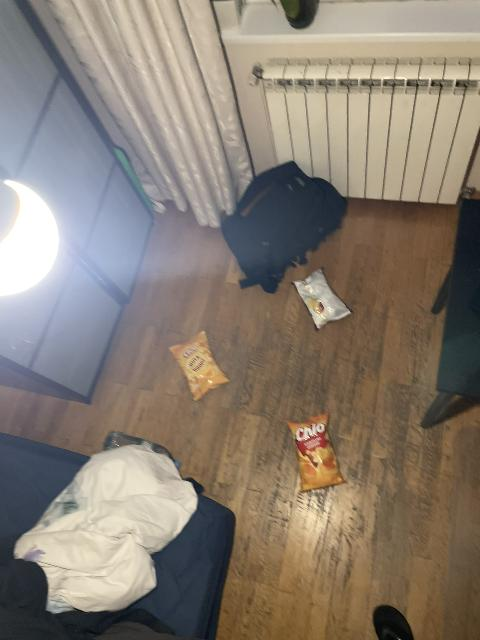Chio Cascaval 125g: (287, 412, 347, 492)
Chio Hula Hoops Cheese 70g: (168, 334, 230, 401)
Lays Beef Grilled Ribs 125g: (291, 269, 352, 330)
